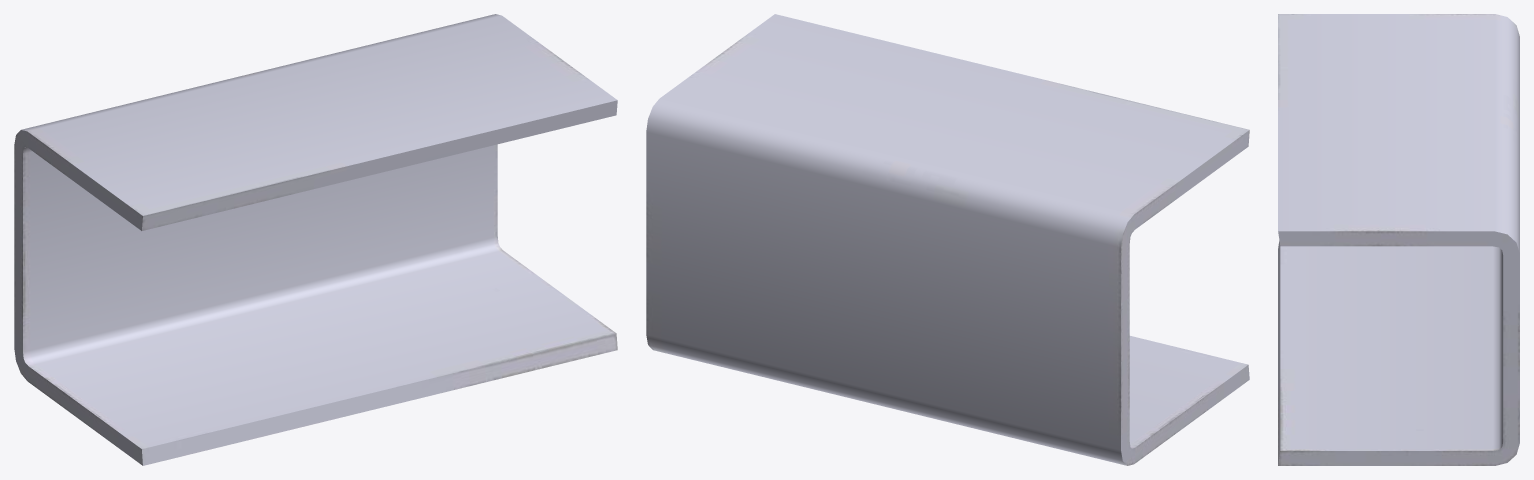
Rendered from Furn_Table_1.glb.
3 renders of one model, left to right at view 1: azimuth 30°, elevation 25°; view 2: azimuth 150°, elevation 25°; view 3: azimuth 270°, elevation 25°, orthographic. The views are drawn at different scales.
Parts seen in each view (by area): view 1: Furn_Table_1; view 2: Furn_Table_1; view 3: Furn_Table_1.
Boxes of the visible parts, <box> form: Furn_Table_1: <box>14,14,617,465</box>; Furn_Table_1: <box>646,14,1249,465</box>; Furn_Table_1: <box>1278,14,1519,465</box>.
Size of the model in its own units: 2.13 by 1.07 by 1.
Materials: 1 (1 with a texture image).
